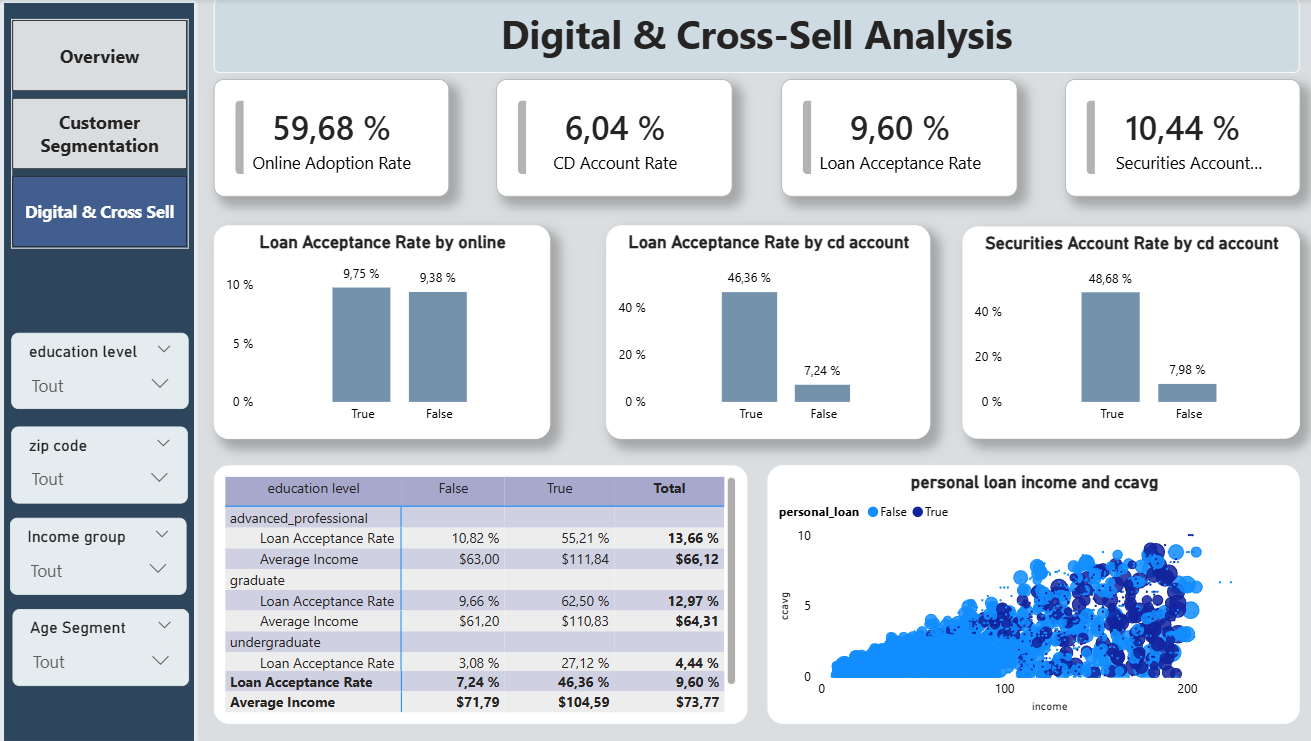

The dashboard page shown, as its layout file describes it:
{"tool":"powerbi","page":{"name":"Digital & Cross Sell","canvas":[1280,720],"ordinal":2},"visuals":[{"type":"cardVisual","fields":{"Data":["_mesures.CD Account Rate"]},"box":[479,77.2,228,113.4],"z":0},{"type":"cardVisual","fields":{"Data":["_mesures.Online Adoption Rate"]},"box":[206.3,77.2,226.8,113.4],"z":1000},{"type":"cardVisual","fields":{"Data":["_mesures.Loan Acceptance Rate"]},"box":[754,77.2,228,113.4],"z":2000},{"type":"cardVisual","fields":{"Data":["_mesures.Securities Account Rate"]},"box":[1027.9,77.2,226.8,113.4],"z":3000},{"type":"clusteredColumnChart","title":"Loan Acceptance Rate by online","fields":{"Category":["dim_customer_profile.online"],"Y":["_mesures.Loan Acceptance Rate"]},"box":[206.3,218.4,324.5,206.3],"z":4000},{"type":"columnChart","title":"Loan Acceptance Rate by cd account","fields":{"Y":["_mesures.Loan Acceptance Rate"],"Category":["dim_customer_profile.cd_account"]},"box":[585.1,218.4,312.5,206.3],"z":5000},{"type":"columnChart","title":"Securities Account Rate by cd account","fields":{"Y":["_mesures.Securities Account Rate"],"Category":["dim_customer_profile.cd_account"]},"box":[929,219.6,325.7,205.1],"z":6000},{"type":"pivotTable","fields":{"Rows":["dim_education.education_level"],"Columns":["dim_customer_profile.cd_account"],"Values":["_mesures.Loan Acceptance Rate","_mesures.Average Income"]},"box":[206.3,450,515.2,249.7],"z":7000},{"type":"scatterChart","title":"personal loan income and ccavg","fields":{"X":["fact_loans.income"],"Y":["fact_loans.ccavg"],"Series":["fact_loans.personal_loan"],"Size":["Sum(fact_loans.mortgage)"]},"box":[740.8,450,513.9,249.7],"z":8000},{"type":"shape","box":[0,0,191.1,720],"z":9000},{"type":"slicer","fields":{"Values":["dim_education.education_level"]},"box":[10.7,322.1,171.1,73.5],"z":10000},{"type":"slicer","fields":{"Values":["dim_geography.zip_code"]},"box":[11.1,413.2,170.2,74],"z":11000},{"type":"slicer","fields":{"Values":["dim_customer_profile.Age Segment"]},"box":[12.3,588.3,170.2,74],"z":12000},{"type":"pageNavigator","box":[10.7,18.7,171.1,221.8],"z":13000},{"type":"textbox","box":[206.3,0,1048.4,71.2],"z":14000},{"type":"slicer","fields":{"Values":["fact_loans.Income group"]},"box":[9.9,500.8,170.2,74],"z":14001}]}

Visuals, with their boxes in screenshot pixels (x1, y1, x2, y2), scaled from the page's 1280x720 canvas onto the 1311x741 screenshot:
cardVisual - _mesures.CD Account Rate: l=491, t=79, r=724, b=196
cardVisual - _mesures.Online Adoption Rate: l=211, t=79, r=444, b=196
cardVisual - _mesures.Loan Acceptance Rate: l=772, t=79, r=1006, b=196
cardVisual - _mesures.Securities Account Rate: l=1053, t=79, r=1285, b=196
"Loan Acceptance Rate by online" clusteredColumnChart: l=211, t=225, r=544, b=437
"Loan Acceptance Rate by cd account" columnChart: l=599, t=225, r=919, b=437
"Securities Account Rate by cd account" columnChart: l=951, t=226, r=1285, b=437
pivotTable - dim_education.education_level x dim_customer_profile.cd_account: l=211, t=463, r=739, b=720
"personal loan income and ccavg" scatterChart: l=759, t=463, r=1285, b=720
shape: l=0, t=0, r=196, b=740
slicer - dim_education.education_level: l=11, t=331, r=186, b=407
slicer - dim_geography.zip_code: l=11, t=425, r=186, b=501
slicer - dim_customer_profile.Age Segment: l=13, t=605, r=187, b=682
pageNavigator: l=11, t=19, r=186, b=248
textbox: l=211, t=0, r=1285, b=73
slicer - fact_loans.Income group: l=10, t=515, r=184, b=592
